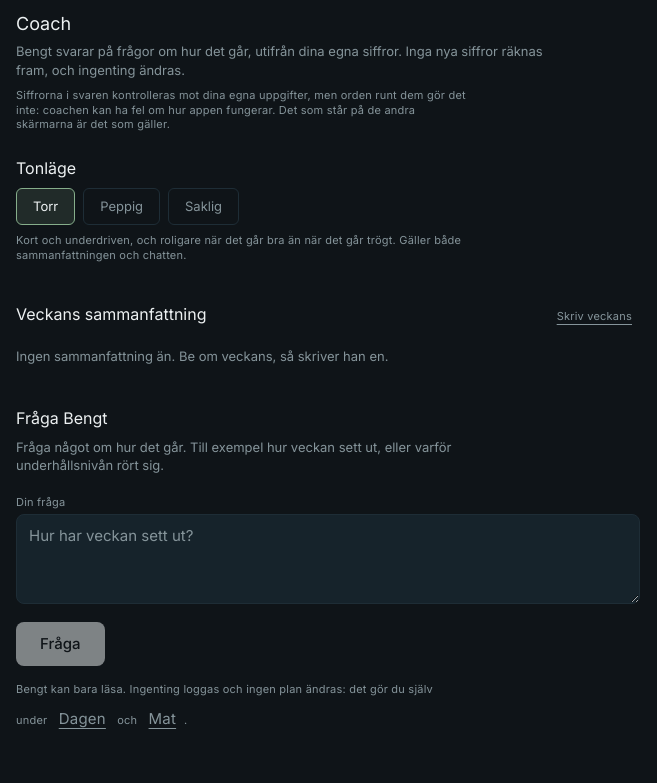
Test case: asking the coach › shows the app's own words when a reply is refused
Type "Vad händer om jag äter 800 kcal?" into the text box with test id "coach-question" at (328, 559), box 16,514 -> 640,604
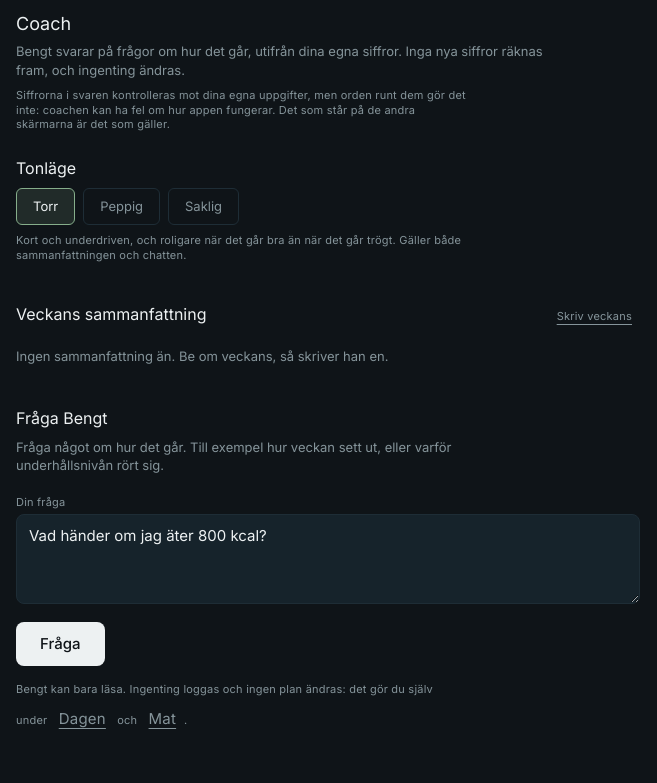
Click the button with test id "coach-send" at (60, 644), box 16,622 -> 104,666
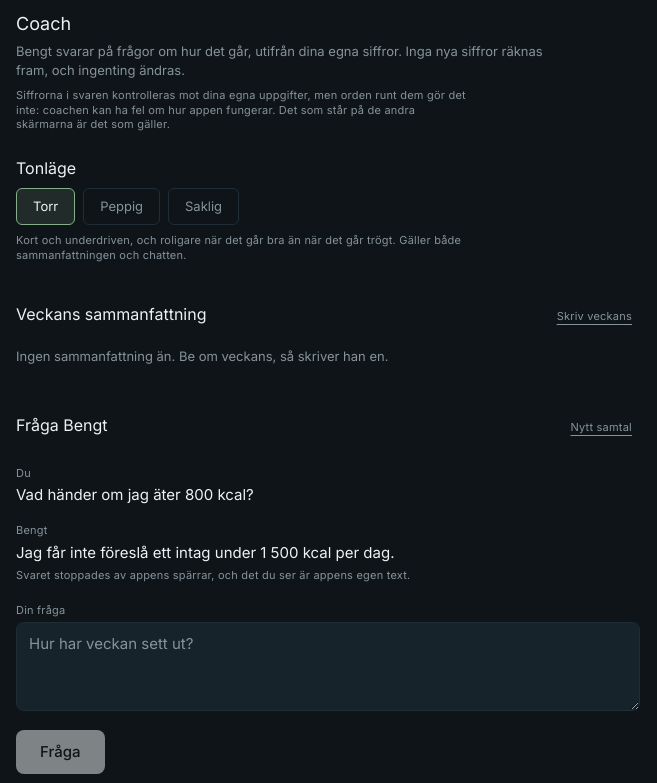
Now the text "Jag får inte föreslå ett intag under 1 500 kcal per dag." is shown, box 16,543 -> 394,562
